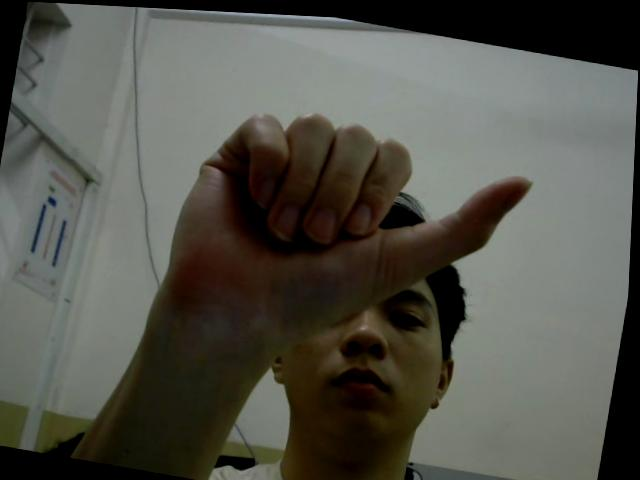A: (160, 89, 540, 373)
